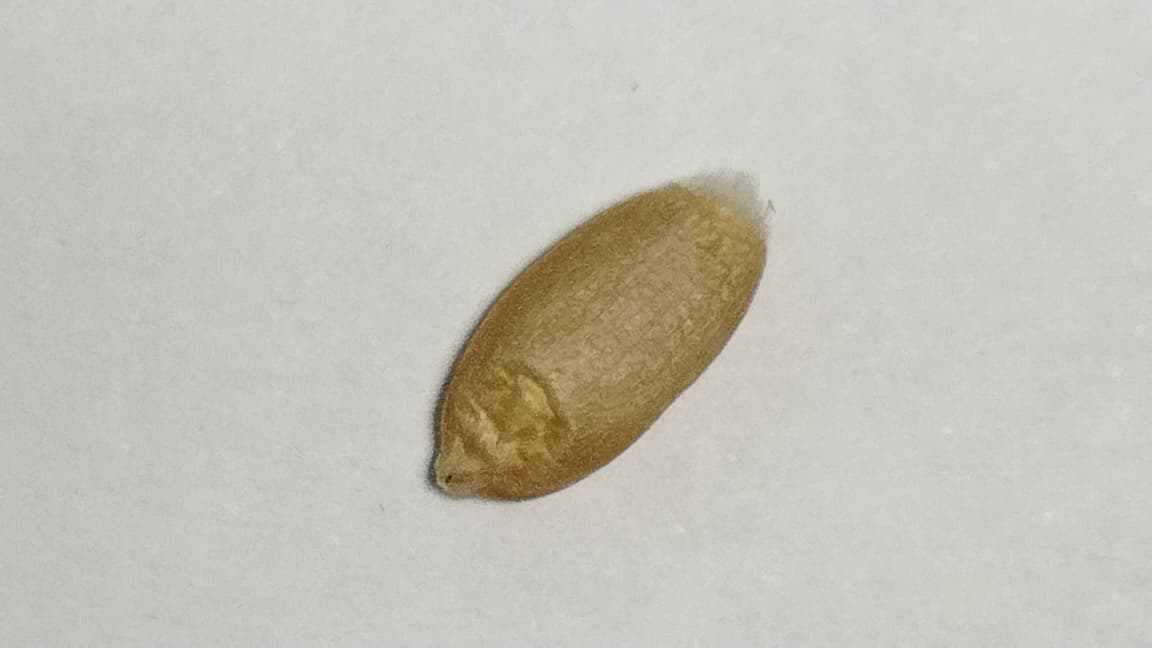healthy: (428, 171, 774, 506)
